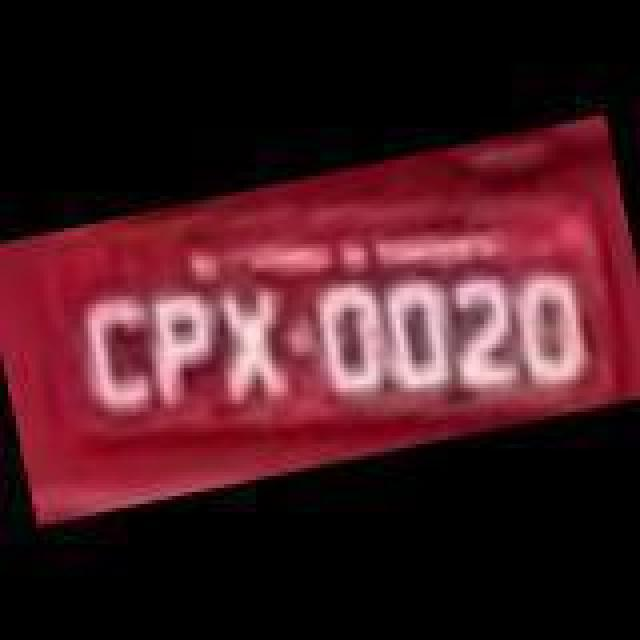2: (442, 262, 534, 394)
C: (72, 286, 168, 418)
O: (300, 268, 404, 404), (368, 268, 464, 404), (506, 264, 598, 392)
P: (138, 282, 230, 414)
X: (202, 278, 294, 410)
